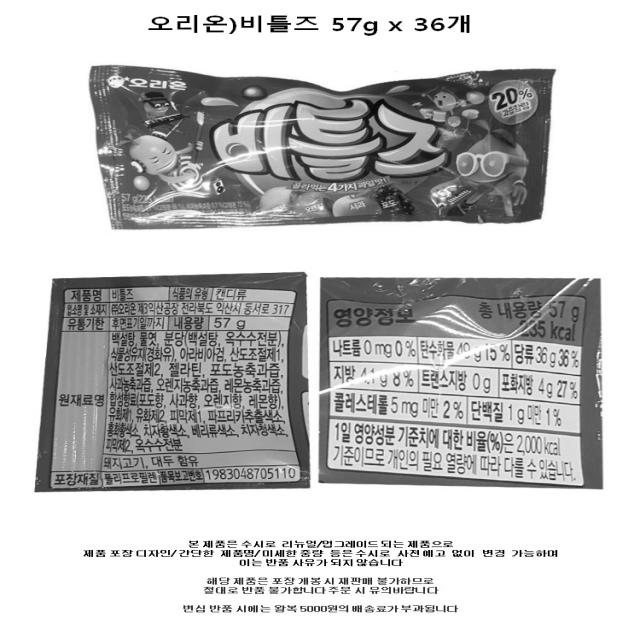Nutrition Label: (314, 289, 619, 494)
